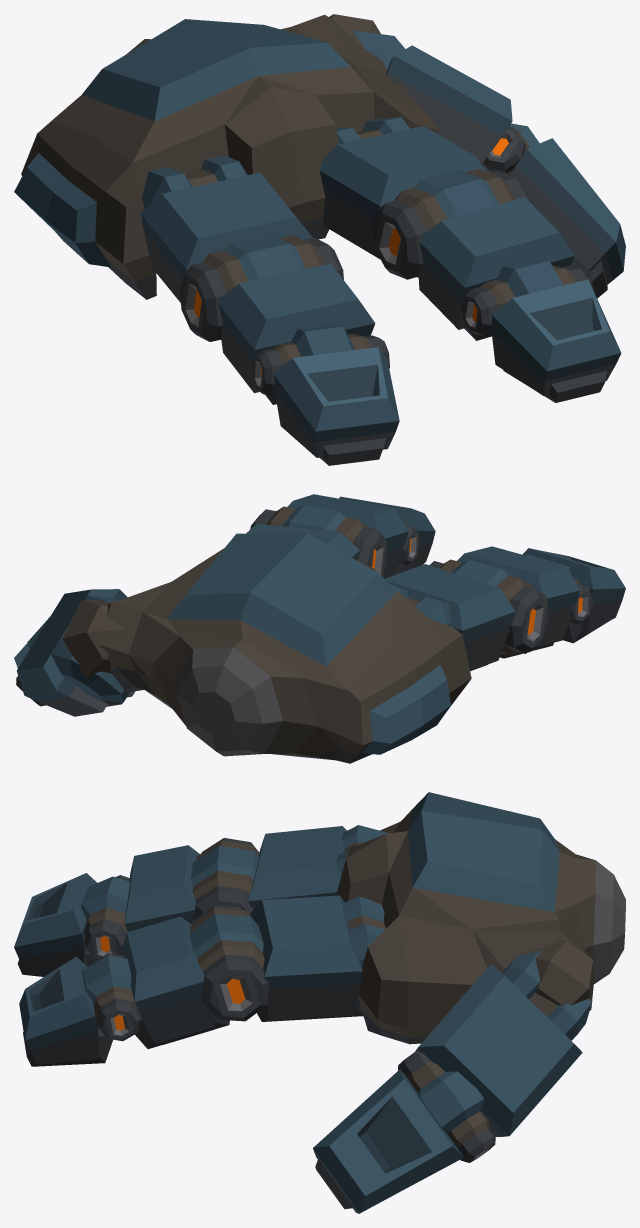
Rendered from SM_Mech_Hand_01_Frame_01.fbx.
3 renders of one model, top to bottom at view 1: azimuth 30°, elevation 25°; view 2: azimuth 150°, elevation 25°; view 3: azimuth 270°, elevation 25°, orthographic. The views are drawn at different scales.
Visible parts, largest first — view 1: SM_Mech_Hand_01_Frame_01; view 2: SM_Mech_Hand_01_Frame_01; view 3: SM_Mech_Hand_01_Frame_01.
Boxes of the visible parts, <box> form: SM_Mech_Hand_01_Frame_01: <box>14,14,625,465</box>; SM_Mech_Hand_01_Frame_01: <box>14,494,625,763</box>; SM_Mech_Hand_01_Frame_01: <box>14,792,625,1213</box>.
Bounding box in the file's own units: 81.11 × 44.33 × 92.41.
